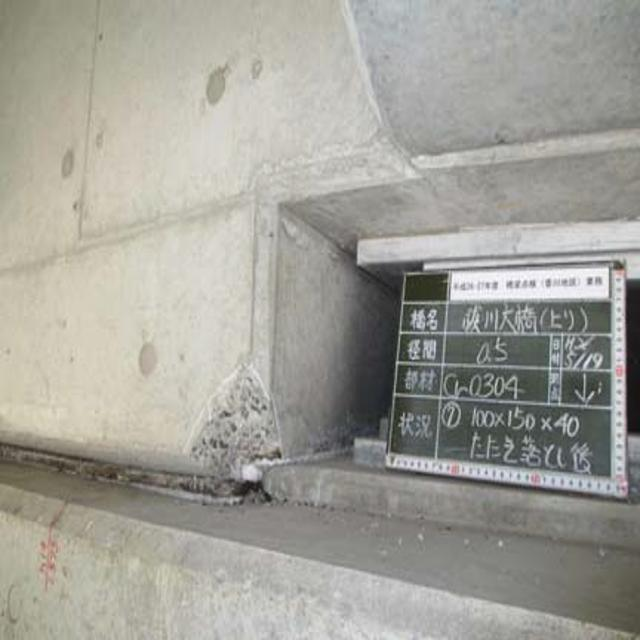spalling: (171, 343, 293, 511)
